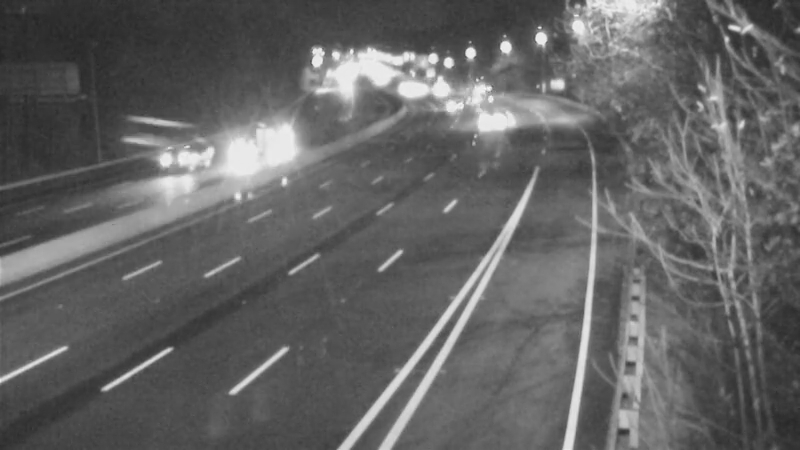vehicle: (138, 119, 218, 199), (205, 115, 285, 195), (399, 63, 449, 113), (414, 63, 464, 113), (458, 68, 508, 118), (423, 79, 473, 129), (466, 98, 516, 148), (250, 114, 300, 164)
